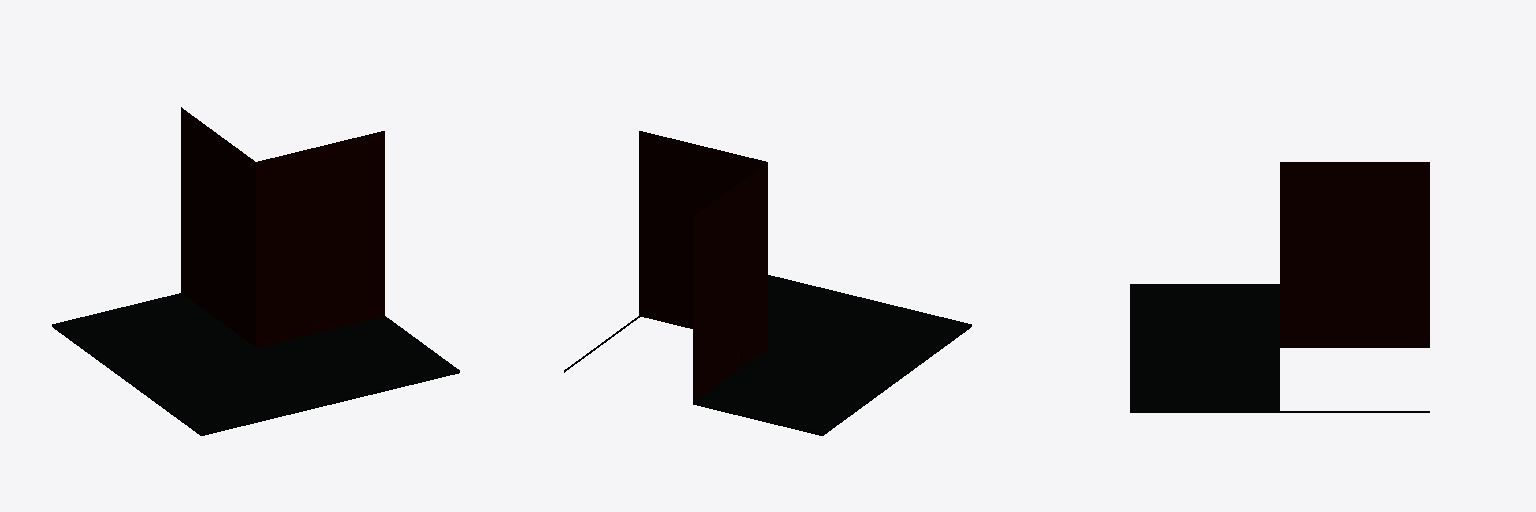
The model's file is 07_multi.obj.
The picture shows the model from 3 angles: view 1: azimuth 30°, elevation 25°; view 2: azimuth 150°, elevation 25°; view 3: azimuth 270°, elevation 25°; orthographic projection.
Visible parts, largest first — view 1: 07_multi_Plane.007; view 2: 07_multi_Plane.007; view 3: 07_multi_Plane.007.
Part boxes in pixels (x1,y1,x2,y2): 07_multi_Plane.007: (52, 107, 459, 435); 07_multi_Plane.007: (564, 131, 971, 435); 07_multi_Plane.007: (1130, 162, 1429, 412).
Bounding box in the file's own units: 4.48 × 3.11 × 4.48.